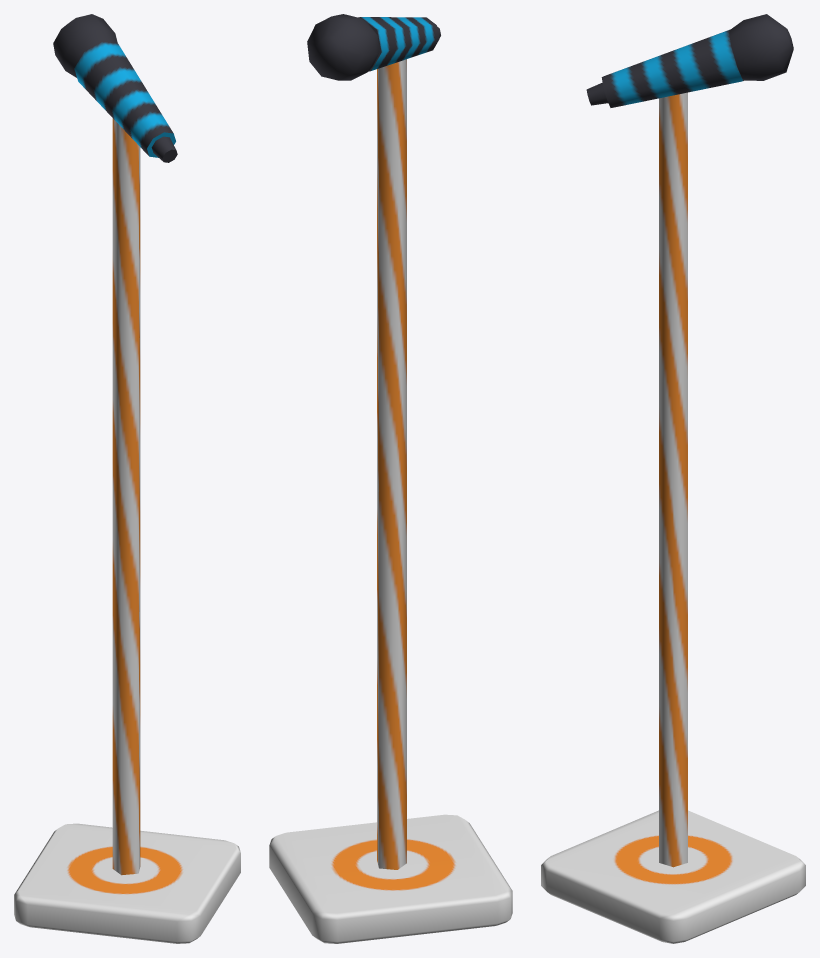
The model's file is Mesh_Resto_micro.fbx.
3 views of the same model, side by side, from view 1: azimuth 30°, elevation 25°; view 2: azimuth 150°, elevation 25°; view 3: azimuth 270°, elevation 25° (orthographic). The views are drawn at different scales.
Parts seen in each view (by area): view 1: micro; view 2: micro; view 3: micro.
Boxes of the visible parts, x1,y1,x2,y2 form: micro: (14, 14, 240, 943); micro: (269, 14, 512, 943); micro: (541, 14, 805, 943).
Size of the model in its own units: 27.23 by 99.03 by 27.23.
